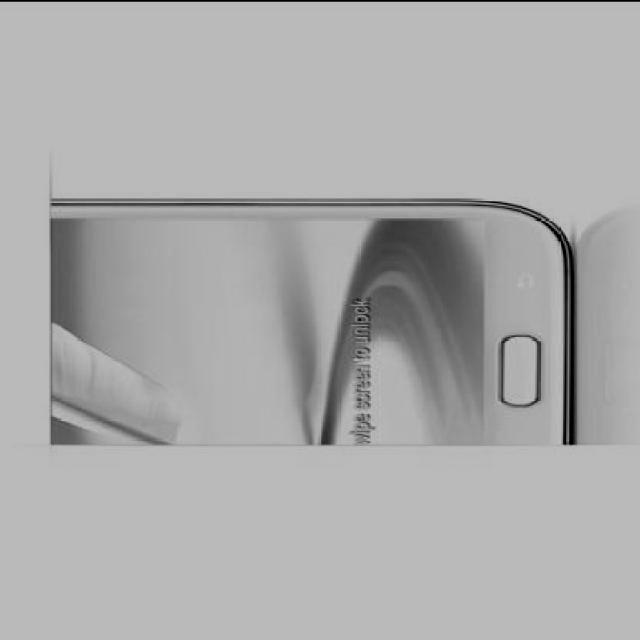fake: (52, 177, 588, 466)
